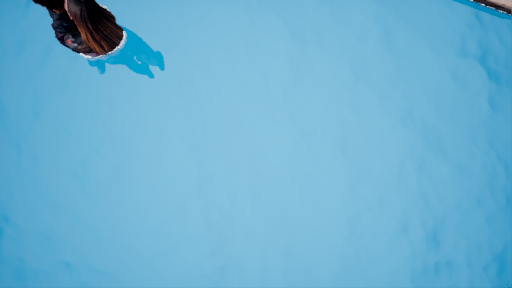person: (36, 2, 178, 81)
